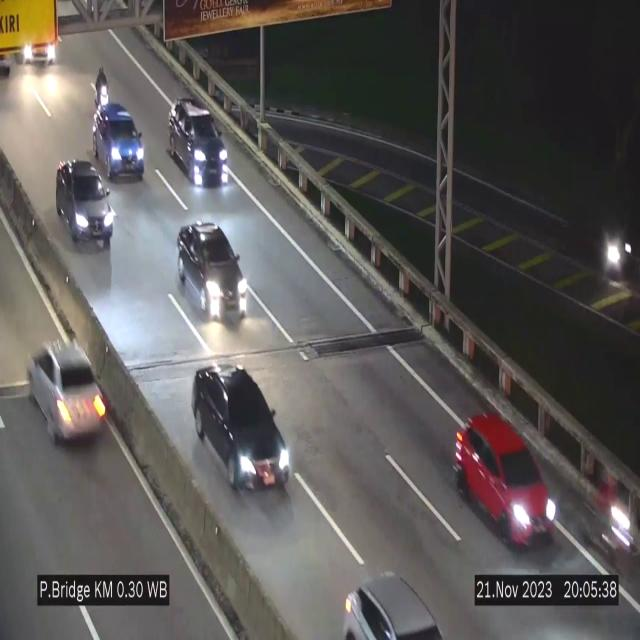Car: (453, 414, 560, 548), (192, 364, 293, 490), (23, 322, 114, 452), (332, 566, 446, 640), (179, 221, 249, 327), (168, 96, 232, 191), (56, 160, 113, 247), (91, 102, 146, 184)
Motorcycle: (586, 470, 634, 570), (92, 64, 116, 109)
